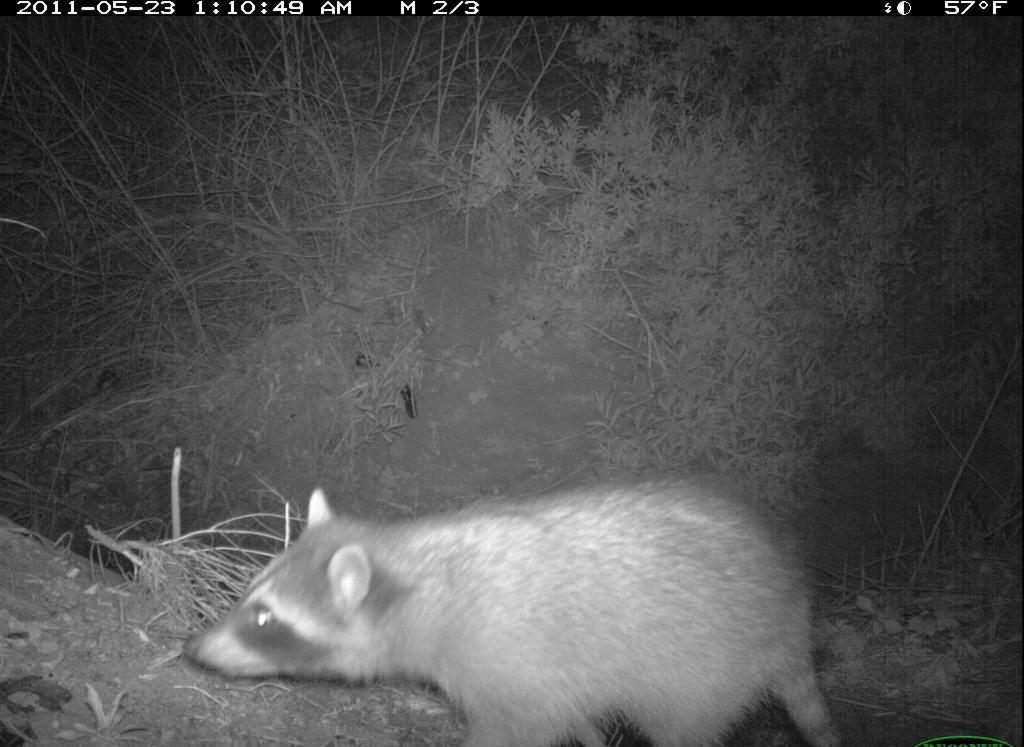raccoon: (178, 472, 843, 747)
